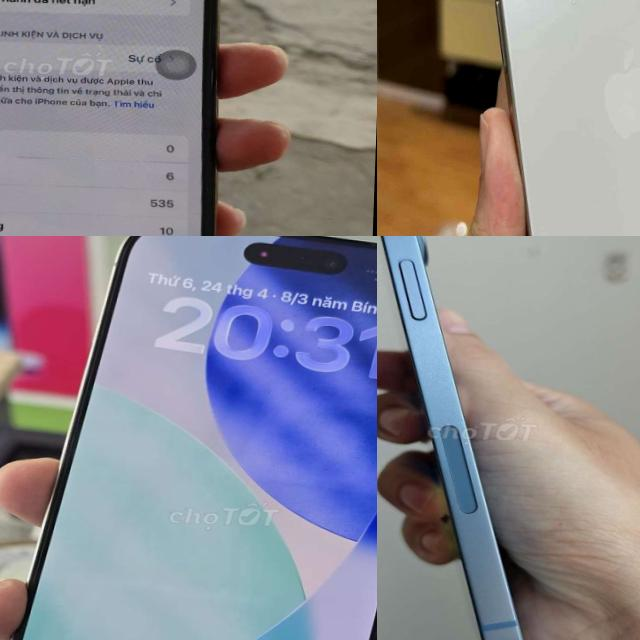gen_12_13: (437, 0, 640, 236)
gen_14: (377, 236, 562, 640)
gen_16: (9, 236, 377, 640)
gen_x_xs: (0, 0, 237, 236)
